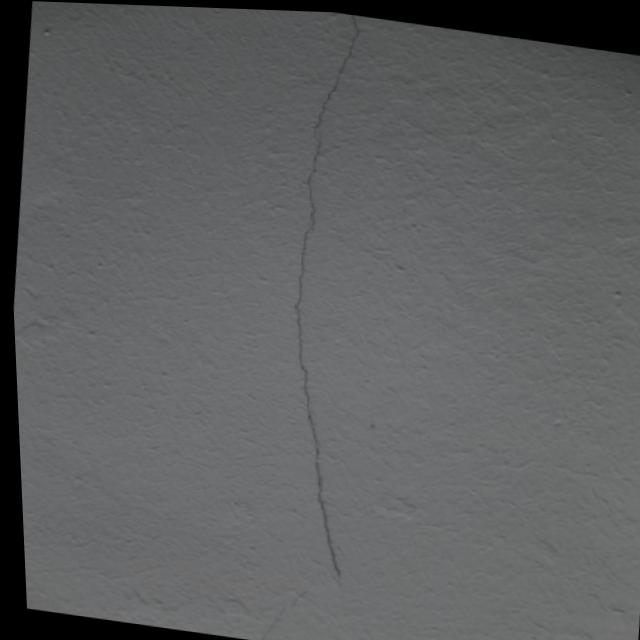Crack: (247, 7, 417, 591)
